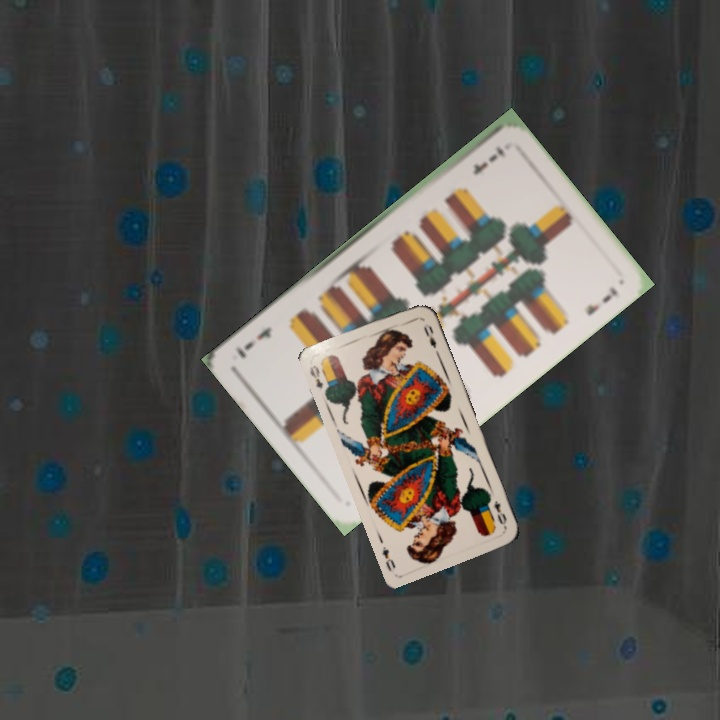E7: (469, 141, 507, 178)
EO: (489, 497, 509, 530), (306, 361, 326, 391)
